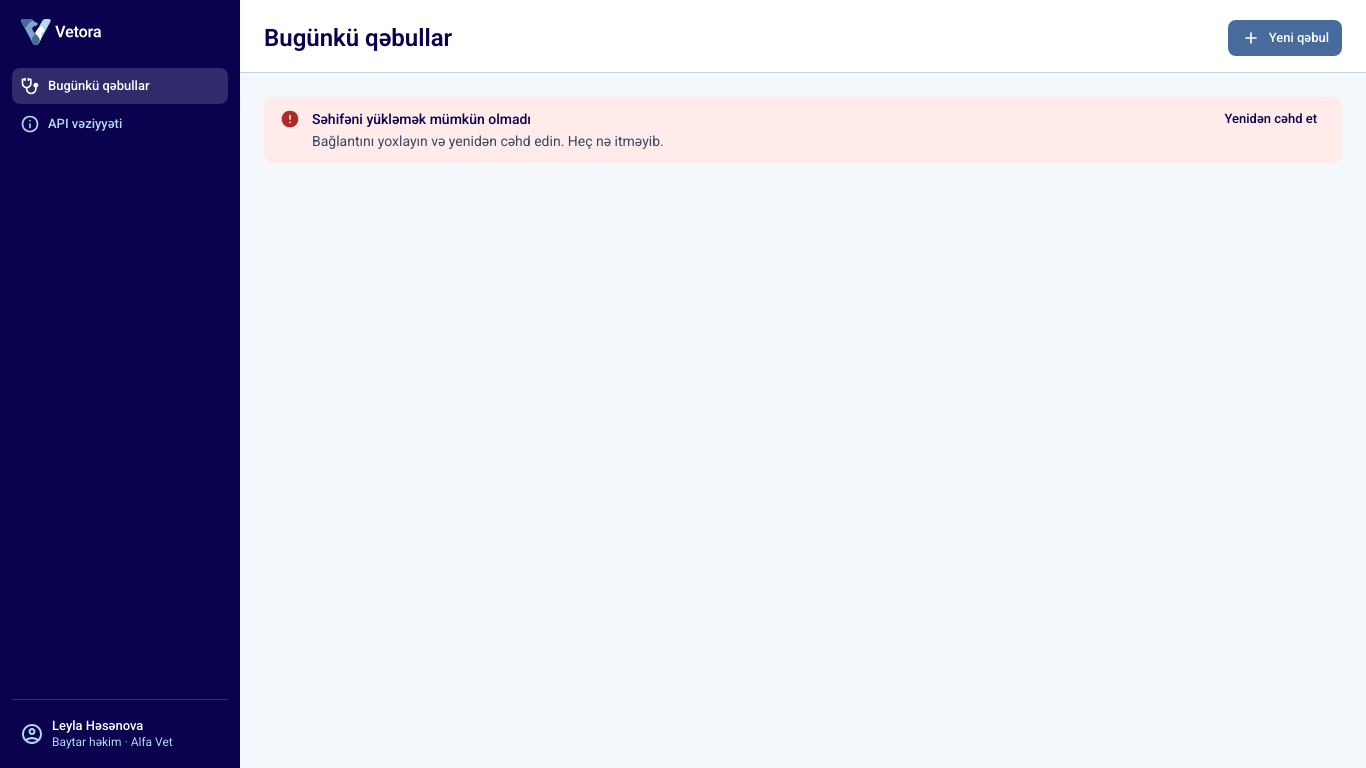
Test: Visits today: the day's visits at the location (#22, seam 3) › says the list could not be loaded, never an empty list, and Try again asks again
Expected: the text "Səhifəni yükləmək mümkün olmadı" is shown, [312, 111, 531, 127]
Click the button "Yenidən cəhd et" at point(1271, 119), box [1216, 105, 1326, 133]
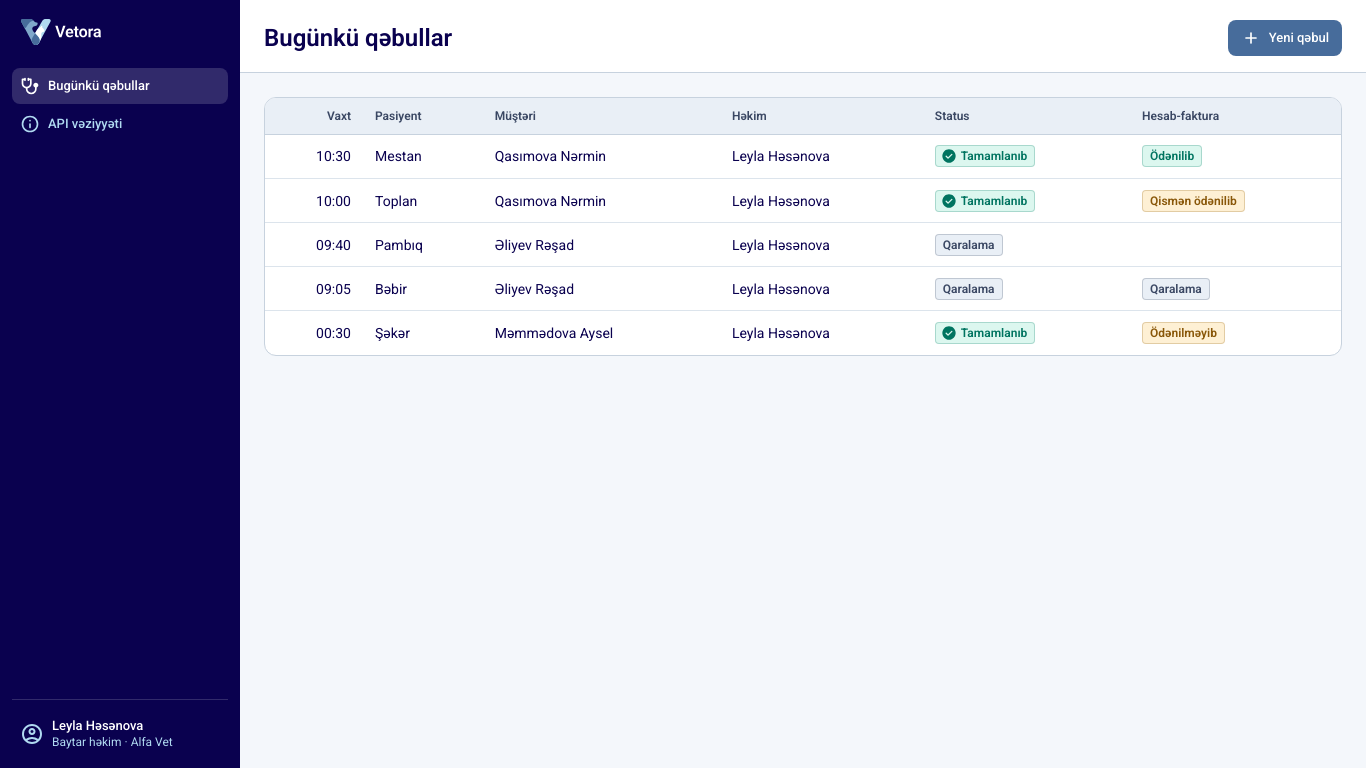
Result: the cell "Şəkər" is shown at [363, 310, 483, 354]
